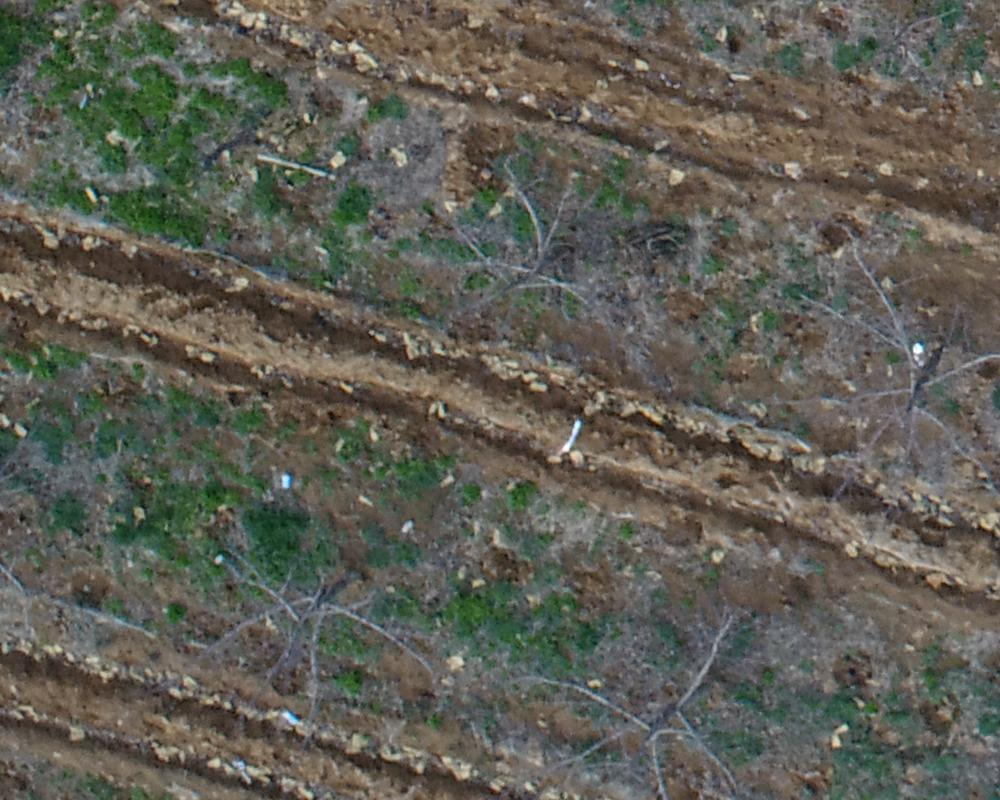apple: (802, 224, 990, 500), (171, 543, 449, 724), (527, 613, 768, 790), (414, 155, 610, 361), (827, 10, 967, 104)
